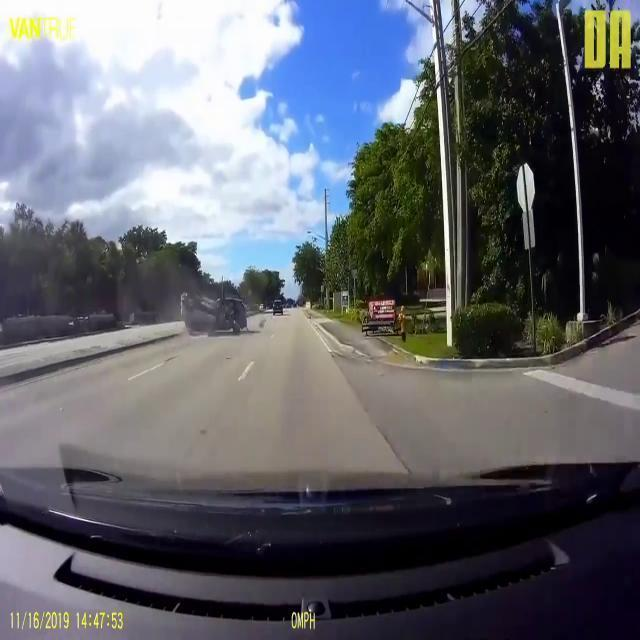accident: (179, 288, 249, 334)
